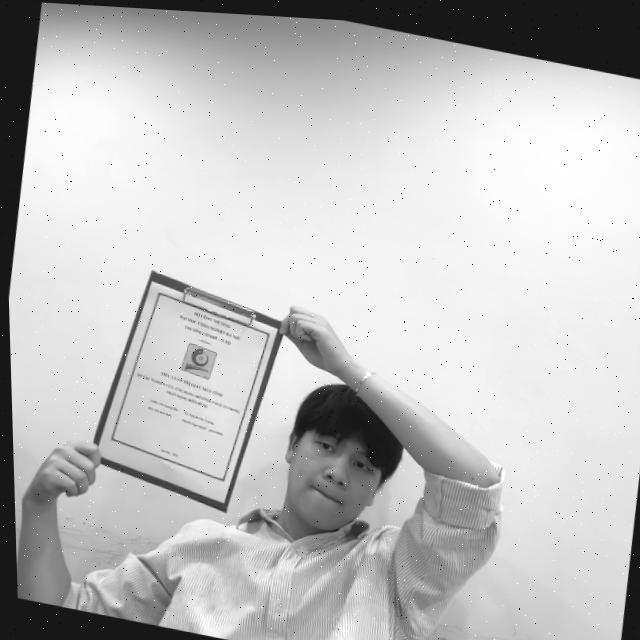document: (96, 282, 278, 504)
face: (283, 414, 393, 544)
